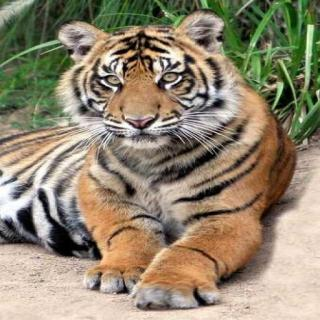Tiger: (0, 2, 294, 318)
